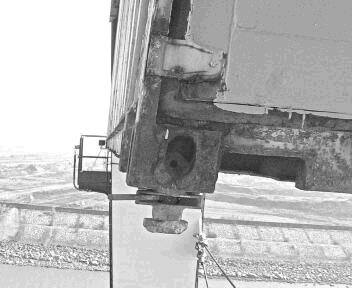twist_lock_1: (123, 183, 209, 240)
